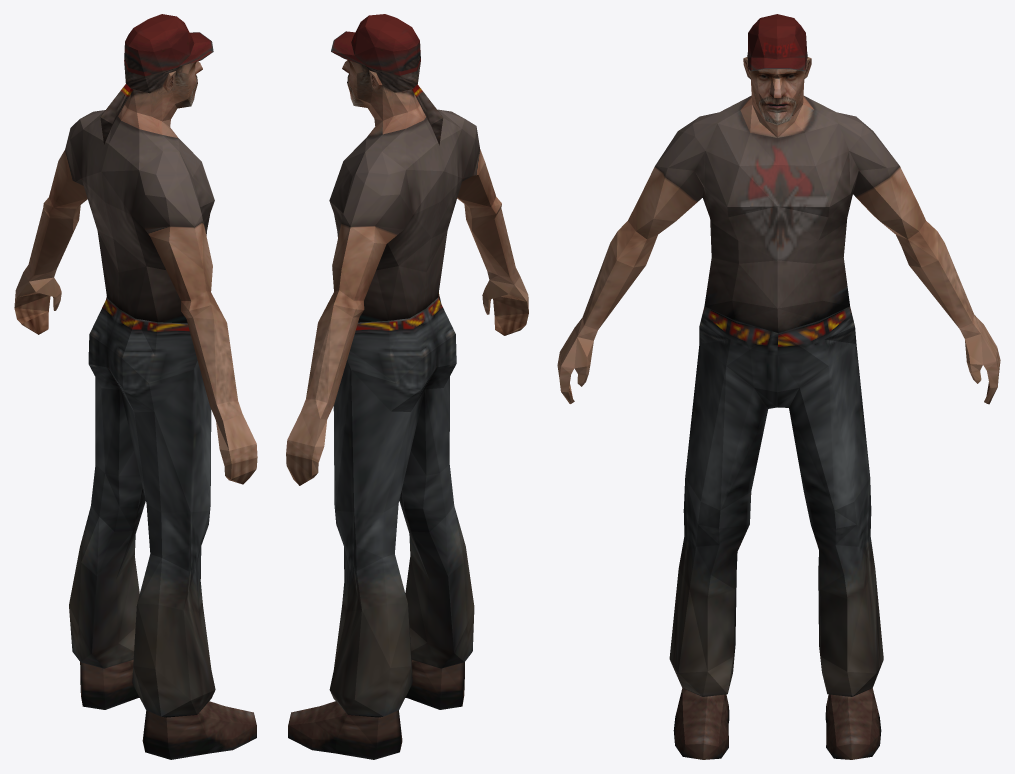
File: dnmolc2.obj
3 views of the same model, side by side, from view 1: azimuth 30°, elevation 25°; view 2: azimuth 150°, elevation 25°; view 3: azimuth 270°, elevation 25° (orthographic). The views are drawn at different scales.
Parts seen in each view (by area): view 1: _Pelvis; view 2: _Pelvis; view 3: _Pelvis.
Part boxes in pixels (x1=…): _Pelvis: x1=14, y1=14, x2=257, y2=759; _Pelvis: x1=286, y1=14, x2=528, y2=759; _Pelvis: x1=557, y1=14, x2=1000, y2=759.
Bounding box in the file's own units: 0.3241 × 1.81 × 1.01.
1 material, 1 textured.
